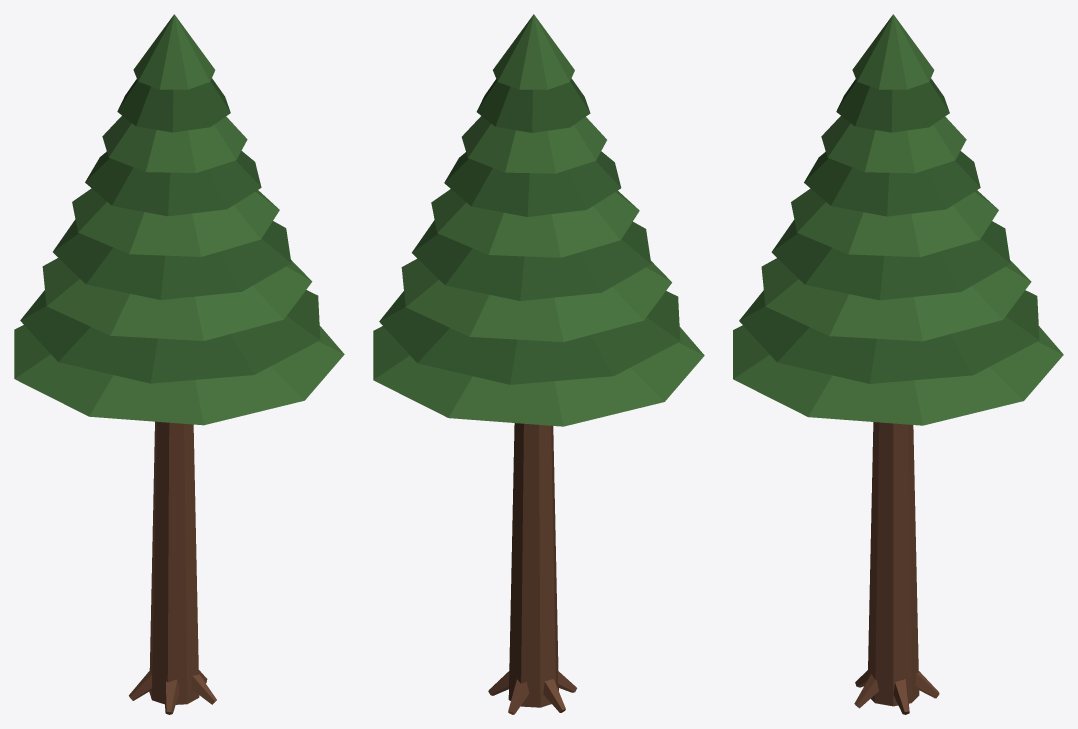
Rendered from tree_pine_huge.glb.
3 renders of one model, left to right at view 1: azimuth 30°, elevation 25°; view 2: azimuth 150°, elevation 25°; view 3: azimuth 270°, elevation 25°, orthographic.
Parts seen in each view (by area): view 1: tree_pine_huge; view 2: tree_pine_huge; view 3: tree_pine_huge.
Boxes of the visible parts, bbox=[...] form: tree_pine_huge: bbox=[14, 14, 344, 714]; tree_pine_huge: bbox=[373, 14, 704, 714]; tree_pine_huge: bbox=[733, 14, 1063, 714].
Bounding box in the file's own units: 14.74 × 33.13 × 14.52.
